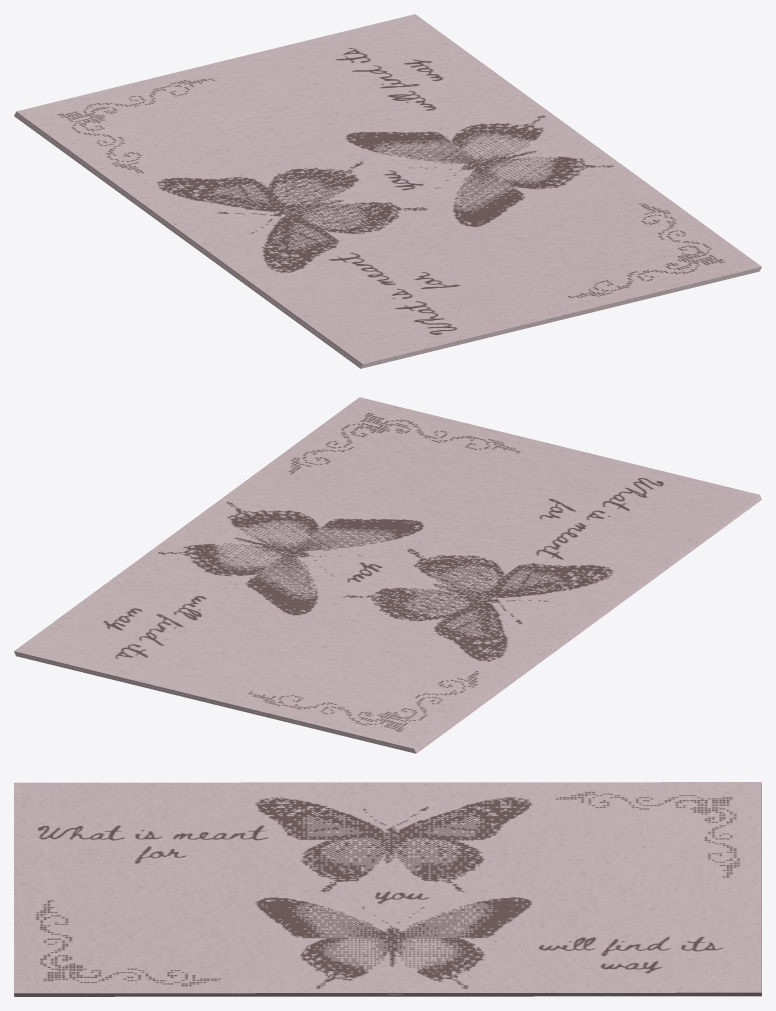
Rendered from postcard.obj.
The picture shows the model from 3 angles, top to bottom: view 1: azimuth 30°, elevation 25°; view 2: azimuth 150°, elevation 25°; view 3: azimuth 270°, elevation 25°; orthographic projection. The views are drawn at different scales.
Visible parts, largest first — view 1: Plane.001, Plane; view 2: Plane.001, Plane; view 3: Plane.001, Plane.
Part boxes in pixels (<box>): Plane.001: <box>15,14,761,366</box>; Plane: <box>14,114,760,368</box>; Plane.001: <box>14,397,760,751</box>; Plane: <box>15,497,761,753</box>; Plane.001: <box>14,782,761,994</box>; Plane: <box>14,994,761,996</box>.
Size of the model in its own units: 2.02 by 0.0206 by 3.
